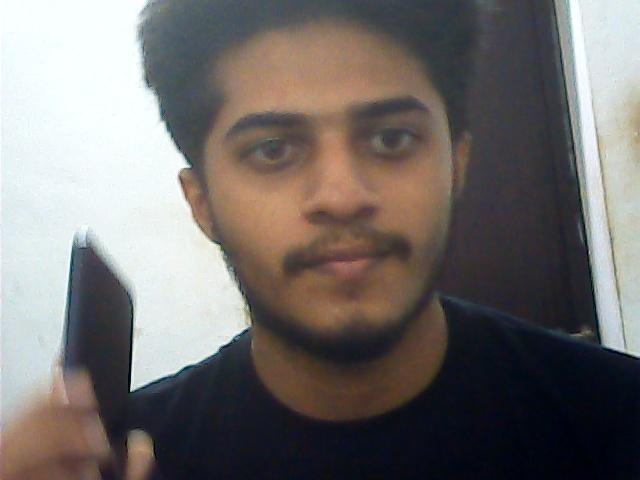PhoneUse: (54, 242, 156, 438)
SafeDriving: (348, 106, 436, 167), (228, 121, 320, 176)
